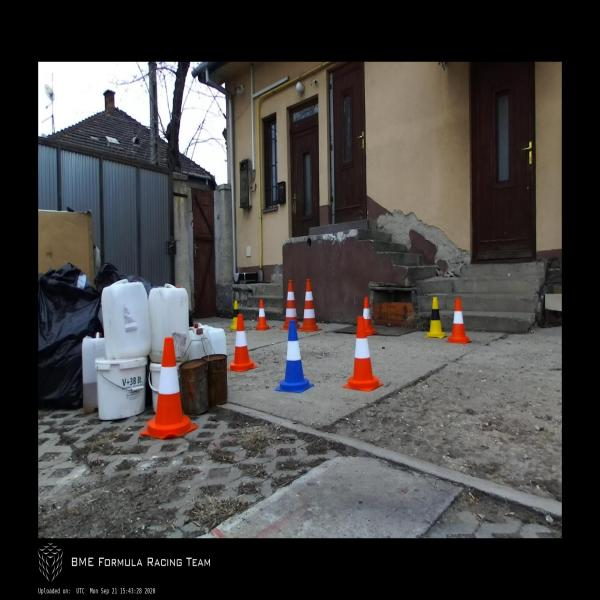blue_cone: (275, 321, 314, 393)
large_orange_cone: (297, 279, 322, 331), (280, 280, 300, 331)
orange_cone: (140, 337, 198, 440), (343, 317, 384, 391), (227, 314, 258, 372), (446, 298, 471, 343), (362, 296, 378, 336), (256, 299, 272, 330)
yellow_cone: (426, 297, 448, 339), (230, 300, 239, 330)
